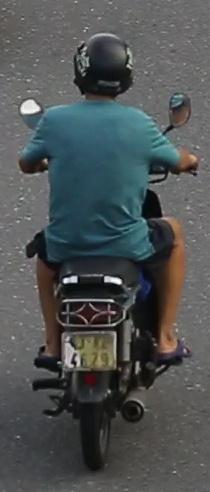LP: (59, 327, 119, 374)
helmet: (68, 29, 137, 120)
